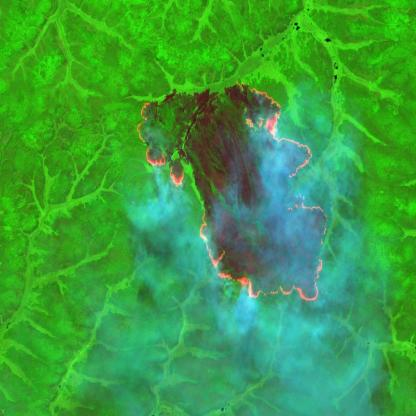fire: (132, 74, 330, 308)
